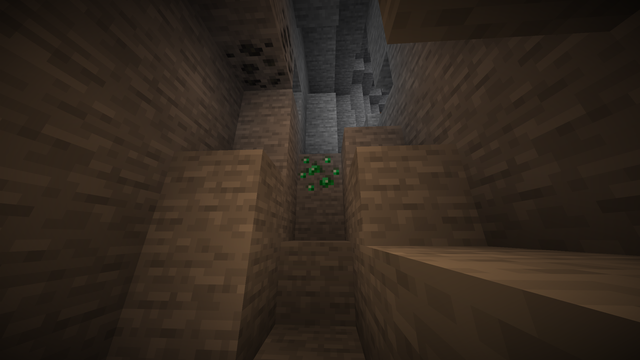coal: (217, 28, 293, 89)
emerald: (297, 153, 343, 194)
